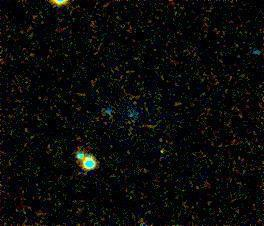star: (150, 136, 180, 166)
